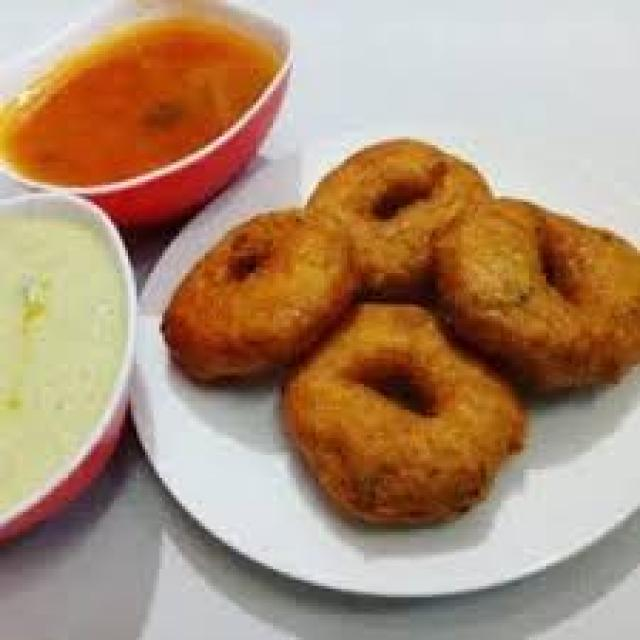MEDU VADA: (280, 293, 532, 534), (443, 200, 637, 383), (152, 215, 358, 382), (306, 133, 489, 276)
